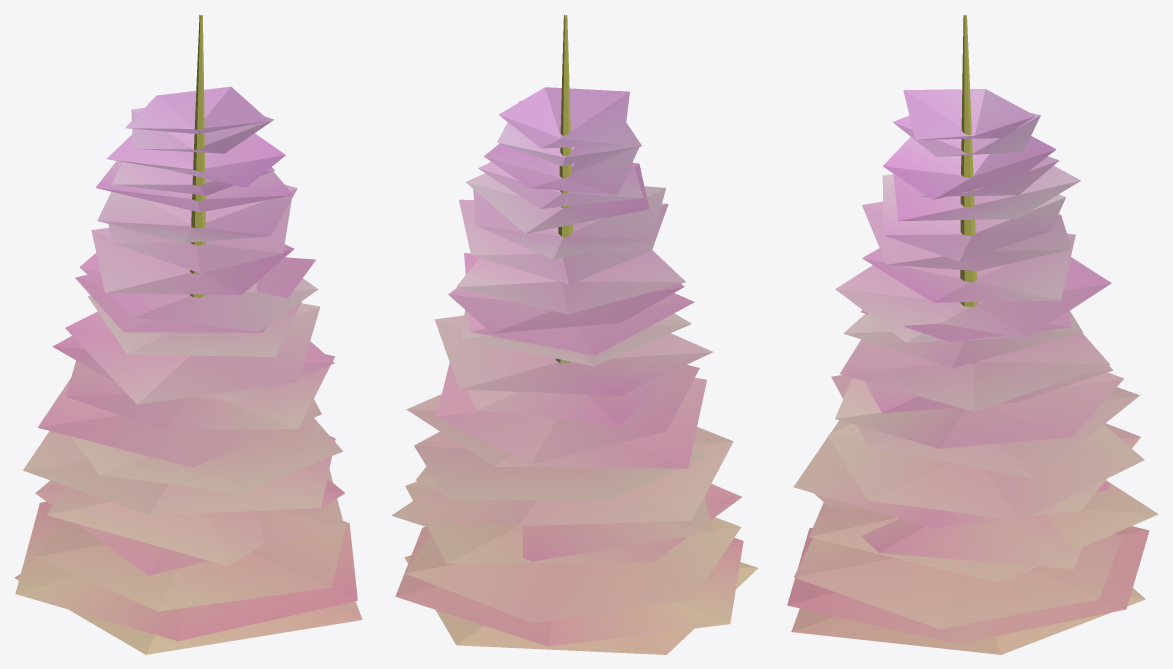
Rendered from tree_spruce_2.glb.
3 views of the same model, side by side, from view 1: azimuth 30°, elevation 25°; view 2: azimuth 150°, elevation 25°; view 3: azimuth 270°, elevation 25° (orthographic). The views are drawn at different scales.
Visible parts, largest first — view 1: tree_spruce_2; view 2: tree_spruce_2; view 3: tree_spruce_2.
Boxes of the visible parts, x1=… form: tree_spruce_2: x1=14, y1=15, x2=362, y2=654; tree_spruce_2: x1=392, y1=15, x2=758, y2=654; tree_spruce_2: x1=787, y1=15, x2=1158, y2=654.
Bounding box in the file's own units: 6.6 × 11.3 × 6.49.
